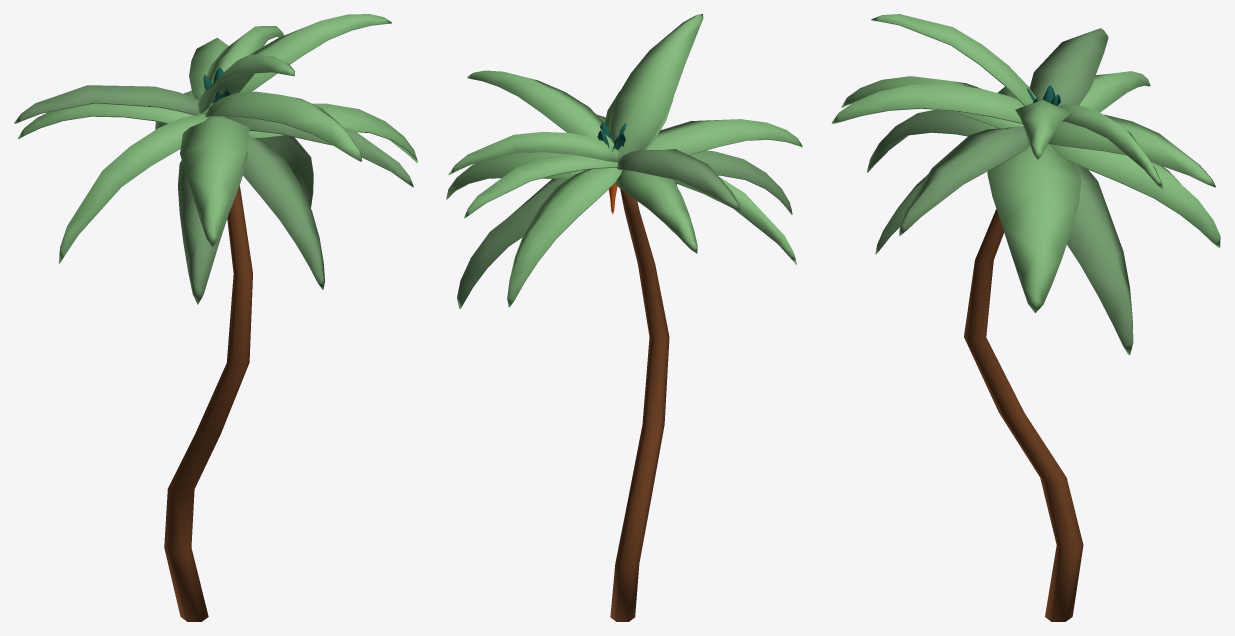
Rendered from Tree-Carrot-no1.gltf.
3 renders of one model, left to right at view 1: azimuth 30°, elevation 25°; view 2: azimuth 150°, elevation 25°; view 3: azimuth 270°, elevation 25°, orthographic. The views are drawn at different scales.
Visible parts, largest first — view 1: Tree-Carrot-no1; view 2: Tree-Carrot-no1; view 3: Tree-Carrot-no1.
Boxes of the visible parts, box(x1,y1,x2,y2) form: Tree-Carrot-no1: box(14, 14, 417, 621); Tree-Carrot-no1: box(446, 14, 802, 621); Tree-Carrot-no1: box(831, 14, 1220, 621).
Bounding box in the file's own units: 2.88 × 4.47 × 2.61.
1 material, 1 textured.
